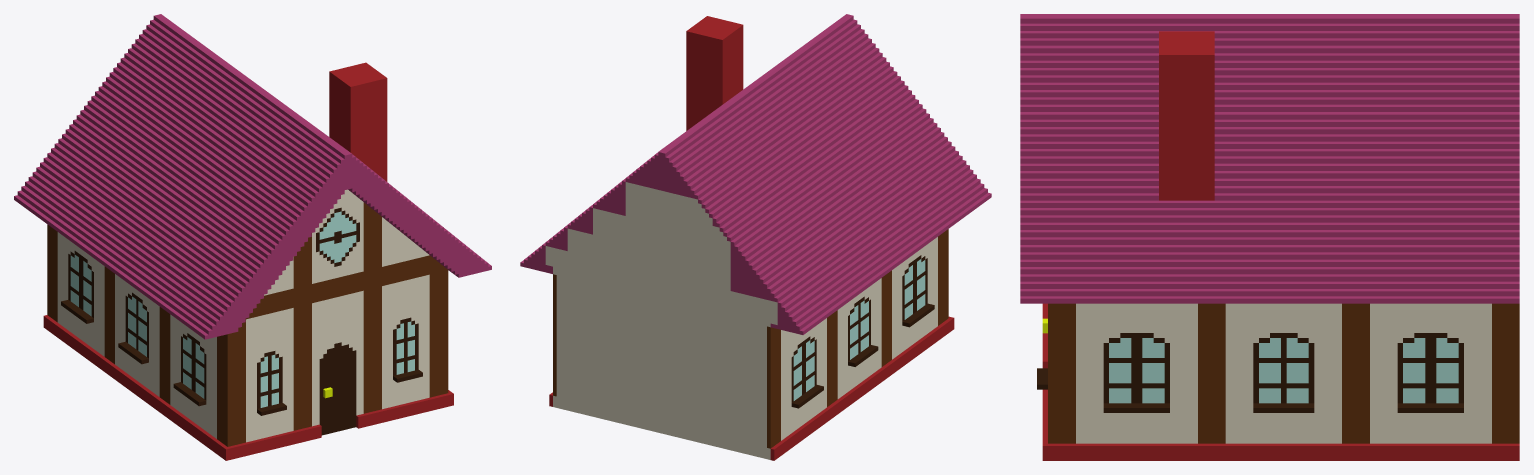
The model's file is house_rhombus.pink.obj.
3 views of the same model, side by side, from view 1: azimuth 30°, elevation 25°; view 2: azimuth 150°, elevation 25°; view 3: azimuth 270°, elevation 25° (orthographic). The views are drawn at different scales.
Bounding box in the file's own units: 7.8 × 7.8 × 9.
Materials: 1 (1 with a texture image).
